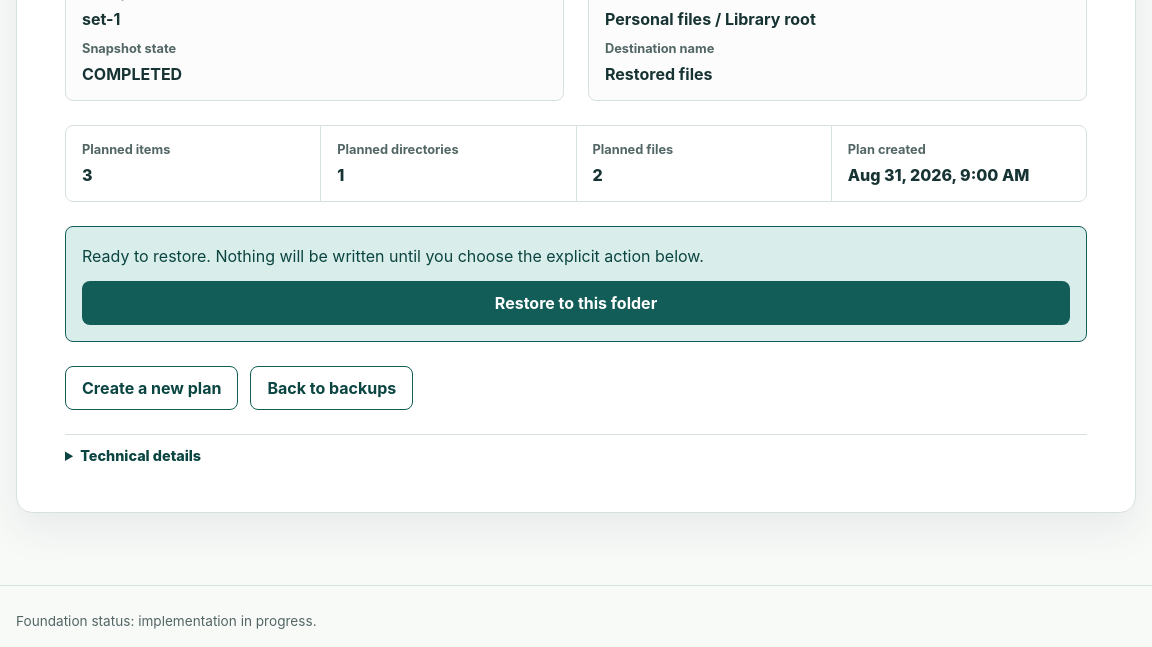
Test: restore workflow › [recovery] keeps review read-only, requires explicit execution, and prevents double-click requests
(page scrolled)
Click the button "Restore to this folder". click: (576, 303)
box: [82, 281, 1070, 325]
(page scrolled)
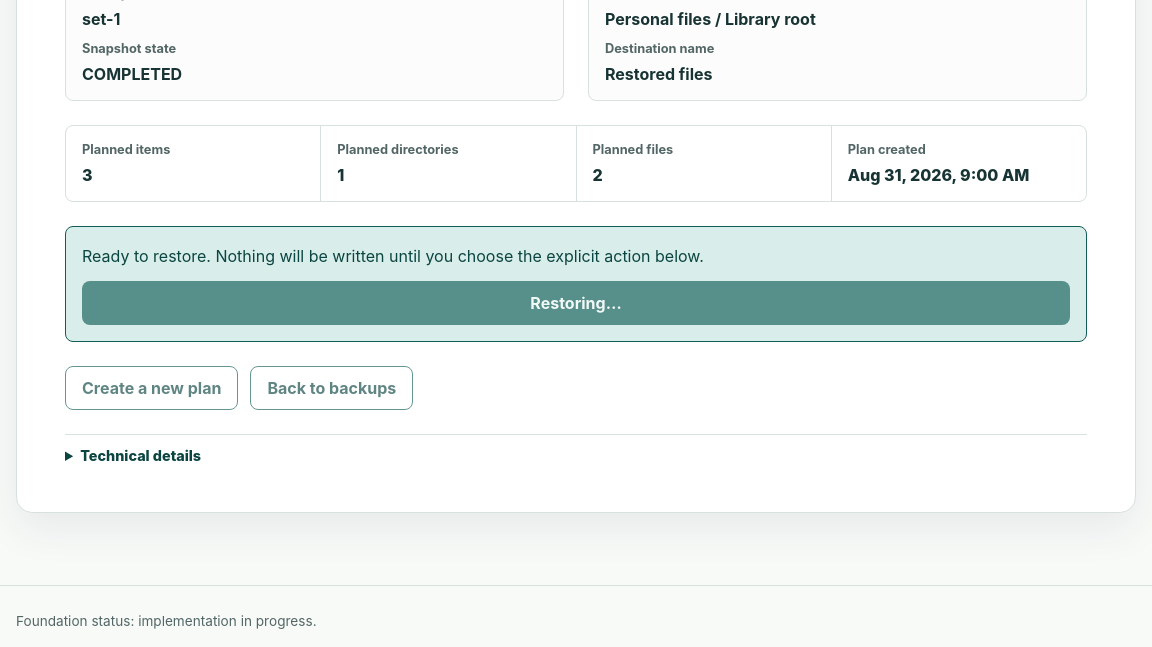
Click the button named "Restore to this folder". click: (576, 303)
box: [82, 281, 1070, 325]
(page scrolled)
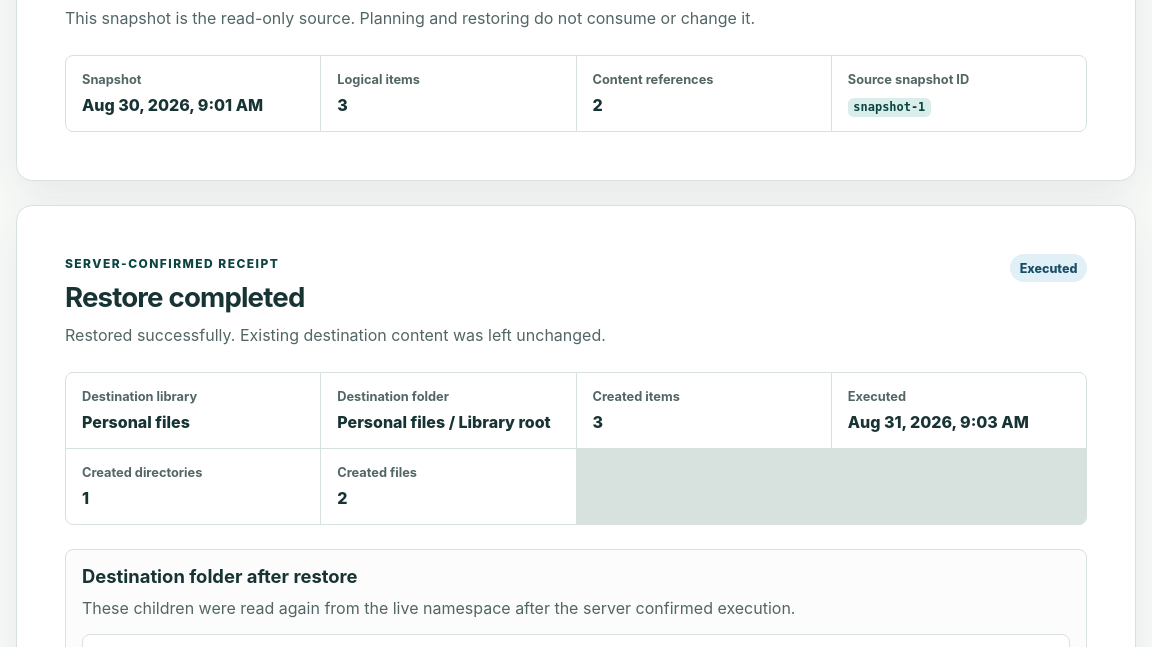
Expected: the heading "Restore completed" is shown, [65, 280, 304, 314]
